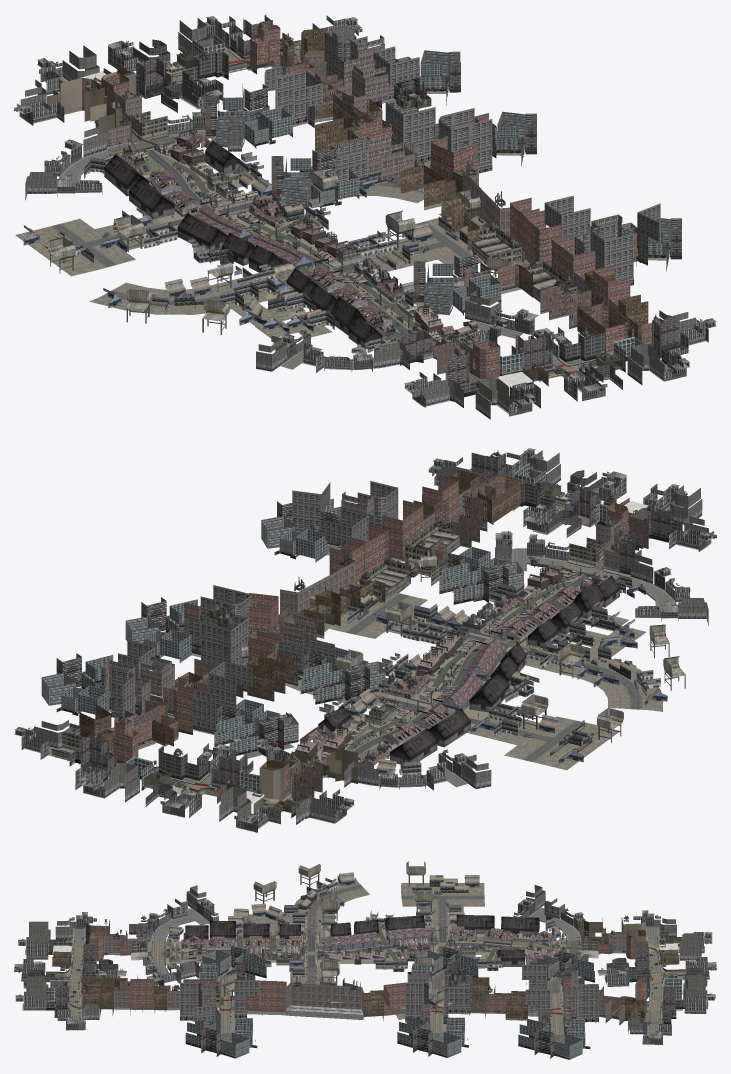
File: city.glb
3 views of the same model, one above another, from view 1: azimuth 30°, elevation 25°; view 2: azimuth 150°, elevation 25°; view 3: azimuth 270°, elevation 25° (orthographic). The views are drawn at different scales.
Visible parts, largest first — view 1: Object_38, Object_26, Object_8, Object_4796, Object_1340, Object_4097, Object_1337, Object_1232, Object_1247, Object_1319, Object_68, Object_1331 (+16 smaller); view 2: Object_38, Object_26, Object_8, Object_4796, Object_1340, Object_4097, Object_1337, Object_1232, Object_1247, Object_1319, Object_1331, Object_68 (+15 smaller); view 3: Object_26, Object_38, Object_8, Object_4796, Object_1337, Object_1232, Object_1340, Object_4097, Object_1247, Object_68, Object_1319, Object_1229 (+27 smaller).
Part boxes in pixels (<box>): Object_38: <box>15,136,512,359</box>; Object_26: <box>14,15,716,419</box>; Object_8: <box>204,50,681,315</box>; Object_4796: <box>265,30,660,280</box>; Object_1340: <box>105,24,651,376</box>; Object_4097: <box>103,28,648,386</box>; Object_1337: <box>107,35,626,371</box>; Object_1232: <box>104,140,382,349</box>; Object_1247: <box>120,56,455,340</box>; Object_1319: <box>136,14,679,384</box>; Object_68: <box>47,50,622,395</box>; Object_1331: <box>60,53,603,374</box>; Object_38: <box>241,548,685,775</box>; Object_26: <box>14,448,716,832</box>; Object_8: <box>41,498,523,755</box>; Object_4796: <box>111,481,398,730</box>; Object_1340: <box>114,471,628,792</box>; Object_4097: <box>79,470,629,803</box>; Object_1337: <box>104,488,621,764</box>; Object_1232: <box>318,575,619,764</box>; Object_1247: <box>110,564,601,764</box>; Object_1319: <box>80,453,671,785</box>; Object_1331: <box>125,485,648,802</box>; Object_68: <box>138,481,632,820</box>; Object_26: <box>14,885,716,1044</box>; Object_38: <box>167,861,563,1019</box>; Object_8: <box>185,943,594,1059</box>; Object_4796: <box>180,964,598,1031</box>; Object_1337: <box>104,927,625,1026</box>; Object_1232: <box>185,915,539,966</box>; Object_1340: <box>82,929,646,1028</box>; Object_4097: <box>52,949,679,1018</box>; Object_1247: <box>169,926,557,963</box>; Object_68: <box>52,917,681,1023</box>; Object_1319: <box>55,922,675,1016</box>; Object_1229: <box>165,925,566,969</box>.
Size of the model in its own units: 14.65 by 2.16 by 23.9.
100 materials, 99 textured.
